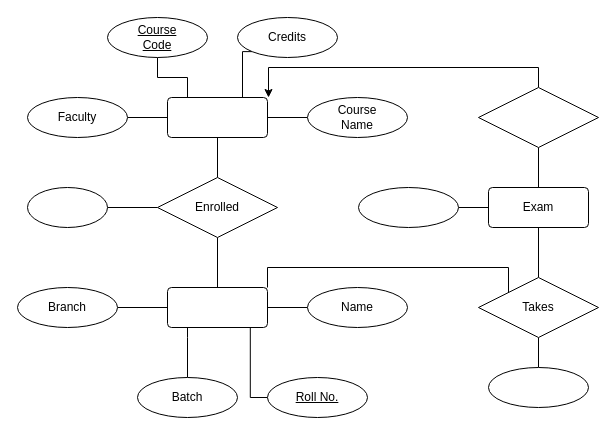
Image size: 616x435. Some labels were removed from this diagram. Here are the shapes that lost their labels. From the top down, the centre of each, then its label:
point 217,117: Course
point 538,117: Conducts
point 67,207: Semester
point 408,207: Date of Exam
point 217,307: Student
point 538,387: Grade
